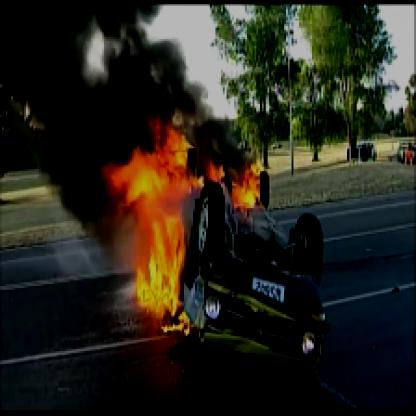Fire: (89, 106, 266, 342)
